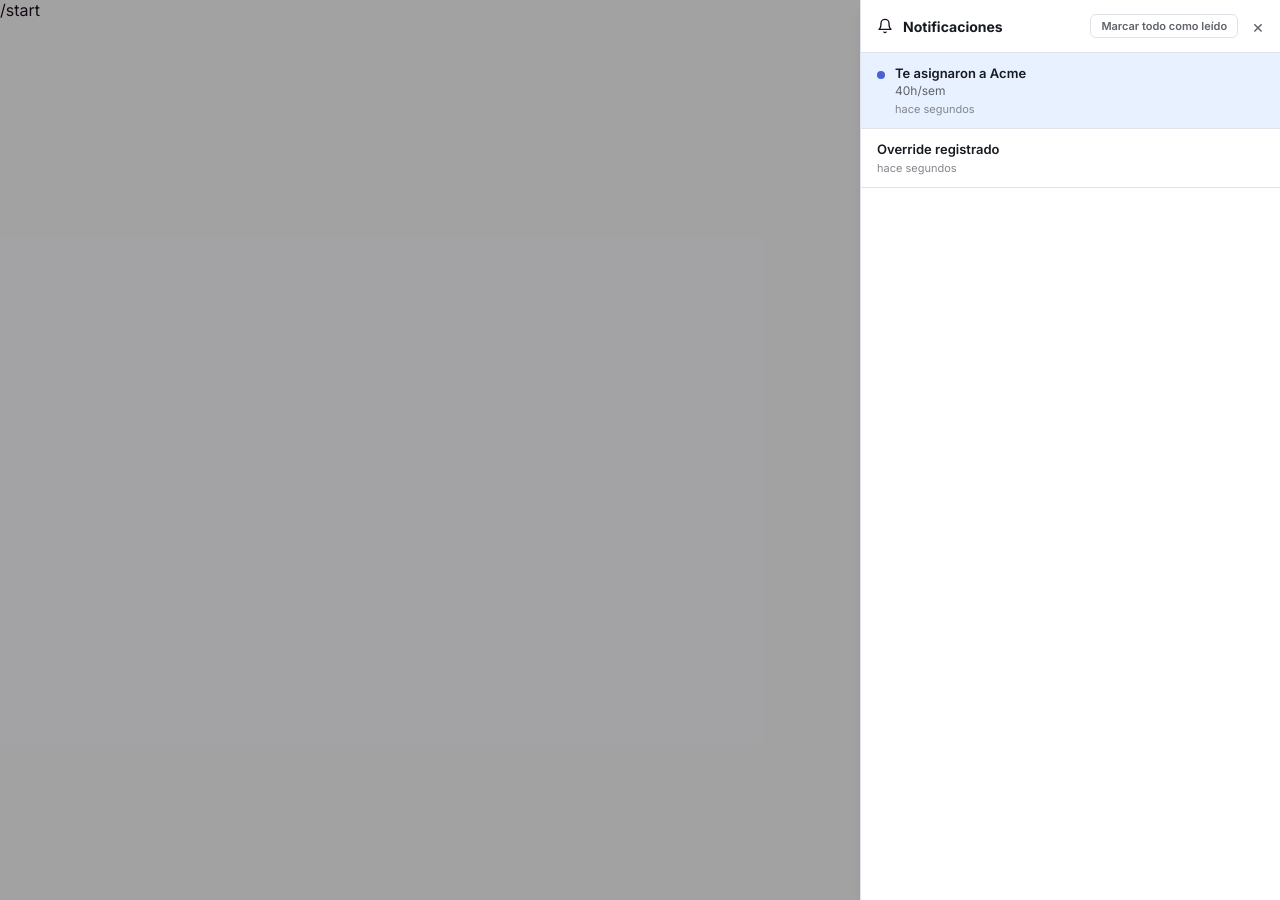
Test: NotificationsDrawer › clicking an unread item marks it read, navigates, and closes the drawer
Step 1. Click the button with test id "notif-item-n1" → [961, 73], box [861, 53, 1279, 129]
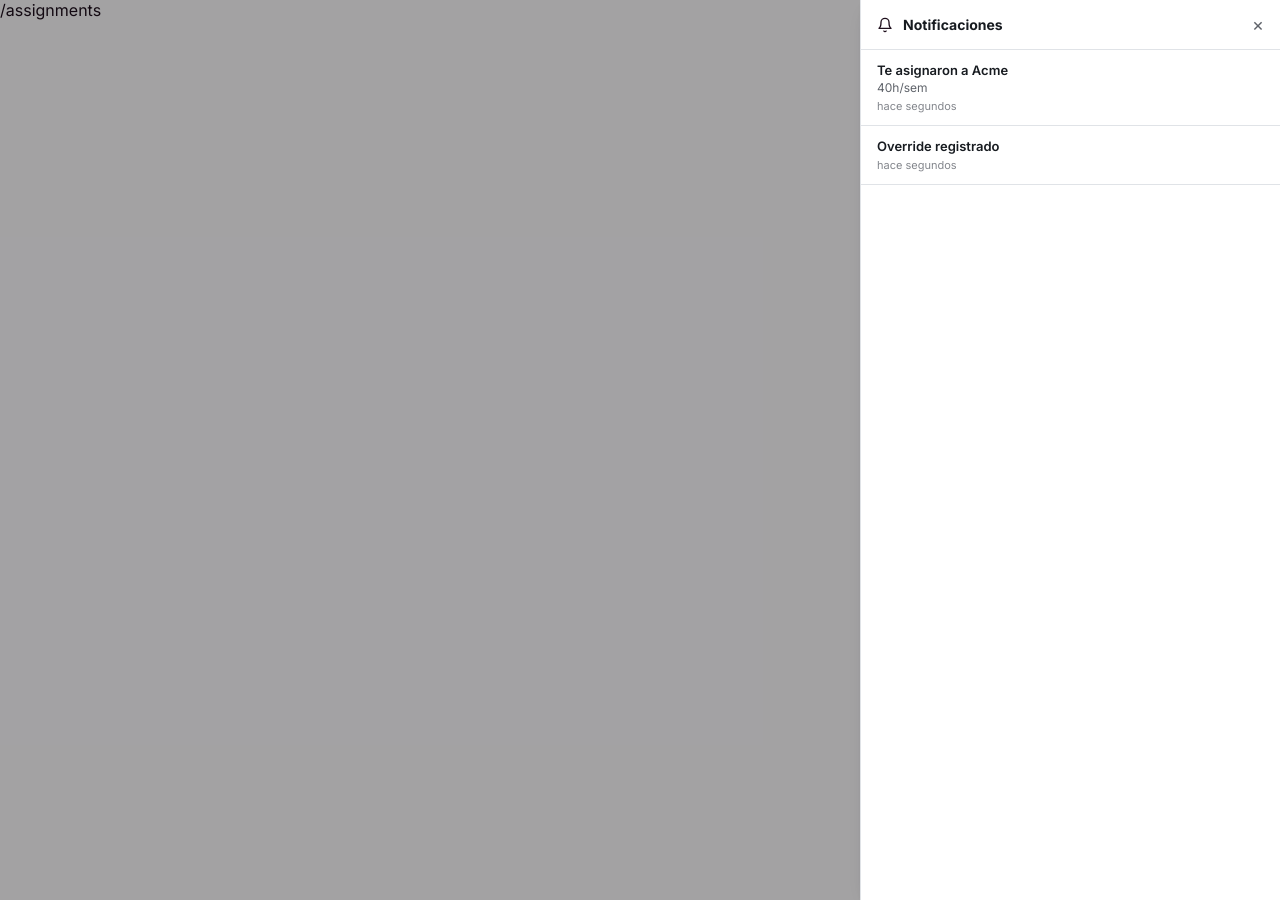
Check: the text with test id "probe-path" reads "/assignments", box [0, 0, 101, 20]
